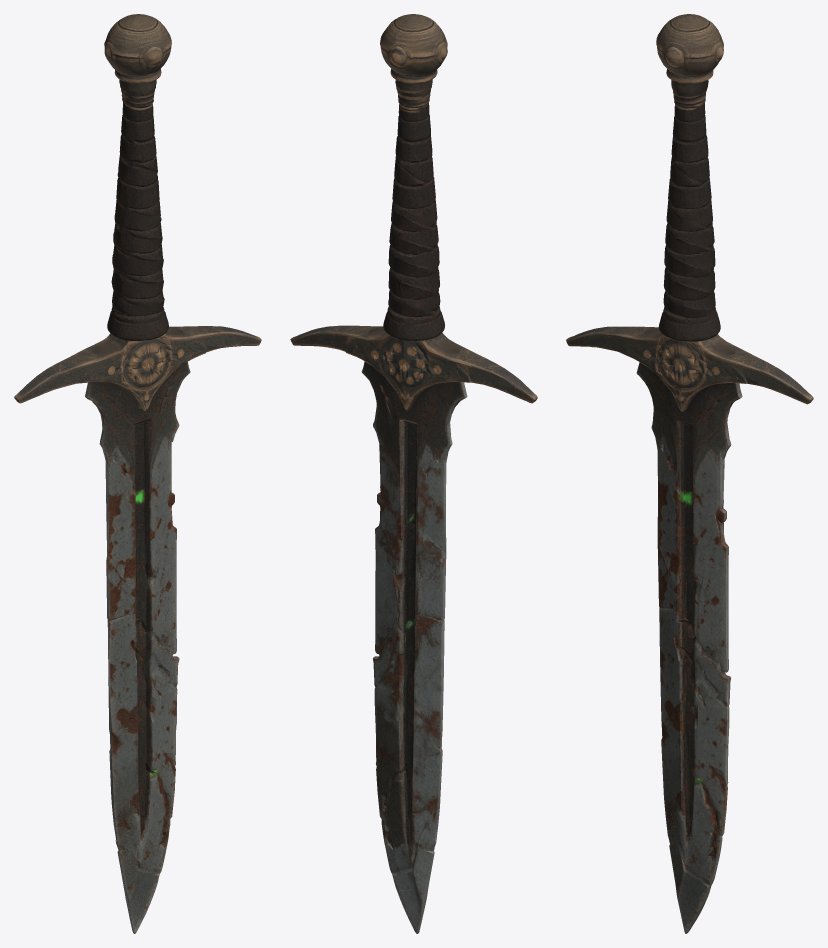
Rendered from Meshy_AI_Weapon_skeleton_sword_01a0e88a_texture.glb.
The picture shows the model from 3 angles, left to right: view 1: azimuth 30°, elevation 25°; view 2: azimuth 150°, elevation 25°; view 3: azimuth 330°, elevation 25°; orthographic projection.
Size of the model in its own units: 0.5324 by 1.9 by 0.1437.
Materials: 1 (1 with a texture image).
